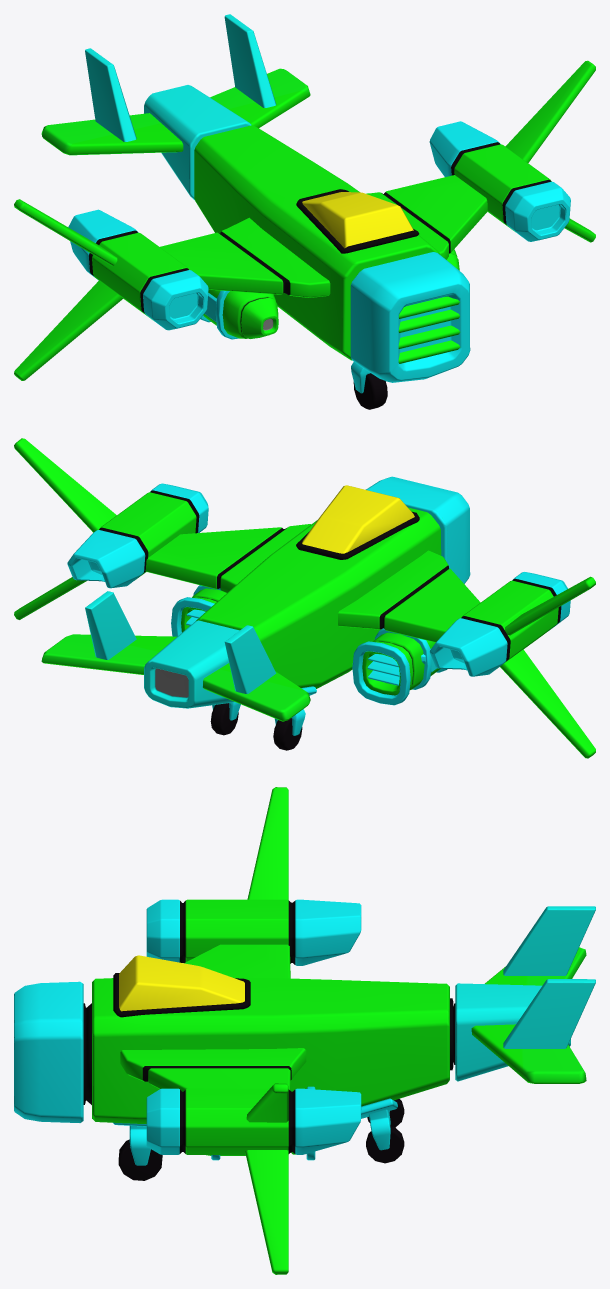
3 renders of one model, top to bottom at view 1: azimuth 30°, elevation 25°; view 2: azimuth 150°, elevation 25°; view 3: azimuth 270°, elevation 25°, orthographic. The views are drawn at different scales.
Parts seen in each view (by area): view 1: Body4, Wing4_R, Fin4, Wing4_L, Propeller4, Spurt4_R, Wing4_R_B, Wing4_L_A, Wing4_R_A, Body4_A; view 2: Body4, Fin4, Wing4_R, Wing4_L, Spurt4_R, Propeller4, Wing4_R_B, Wing4_L_A, Spurt4_L, Wing4_R_A, Body4_C, Wing4_L_B (+1 smaller); view 3: Body4, Wing4_L, Fin4, Wing4_R, Propeller4, Wing4_L_B, Wing4_R_A, Body4_B, Body4_A, Wing4_L_A.
Boxes of the visible parts, bbox=[...] form: Body4: bbox=[194, 125, 439, 360]; Wing4_R: bbox=[68, 209, 330, 330]; Fin4: bbox=[41, 14, 310, 200]; Wing4_L: bbox=[366, 121, 570, 259]; Propeller4: bbox=[350, 252, 470, 382]; Spurt4_R: bbox=[200, 289, 278, 339]; Wing4_R_B: bbox=[14, 281, 123, 380]; Wing4_L_A: bbox=[505, 60, 595, 162]; Wing4_R_A: bbox=[14, 199, 117, 265]; Body4_A: bbox=[351, 362, 387, 409]; Body4: bbox=[195, 485, 441, 688]; Fin4: bbox=[41, 591, 310, 721]; Wing4_R: bbox=[338, 550, 570, 676]; Wing4_L: bbox=[67, 483, 310, 593]; Spurt4_R: bbox=[352, 628, 447, 705]; Propeller4: bbox=[366, 476, 470, 583]; Wing4_R_B: bbox=[500, 649, 595, 758]; Wing4_L_A: bbox=[14, 438, 116, 532]; Spurt4_L: bbox=[171, 585, 226, 636]; Wing4_R_A: bbox=[505, 576, 595, 635]; Body4_C: bbox=[273, 686, 316, 750]; Wing4_L_B: bbox=[14, 577, 86, 619]; Body4: bbox=[86, 955, 453, 1123]; Wing4_L: bbox=[120, 1048, 361, 1154]; Fin4: bbox=[453, 906, 595, 1083]; Wing4_R: bbox=[146, 899, 361, 978]; Propeller4: bbox=[14, 981, 85, 1122]; Wing4_L_B: bbox=[245, 1150, 288, 1274]; Wing4_R_A: bbox=[247, 787, 288, 899]; Body4_B: bbox=[361, 1098, 404, 1163]; Body4_A: bbox=[113, 1122, 162, 1180]; Wing4_L_A: bbox=[246, 1083, 288, 1122].
Bounding box in the file's own units: 20.39 × 7.67 × 16.66.
